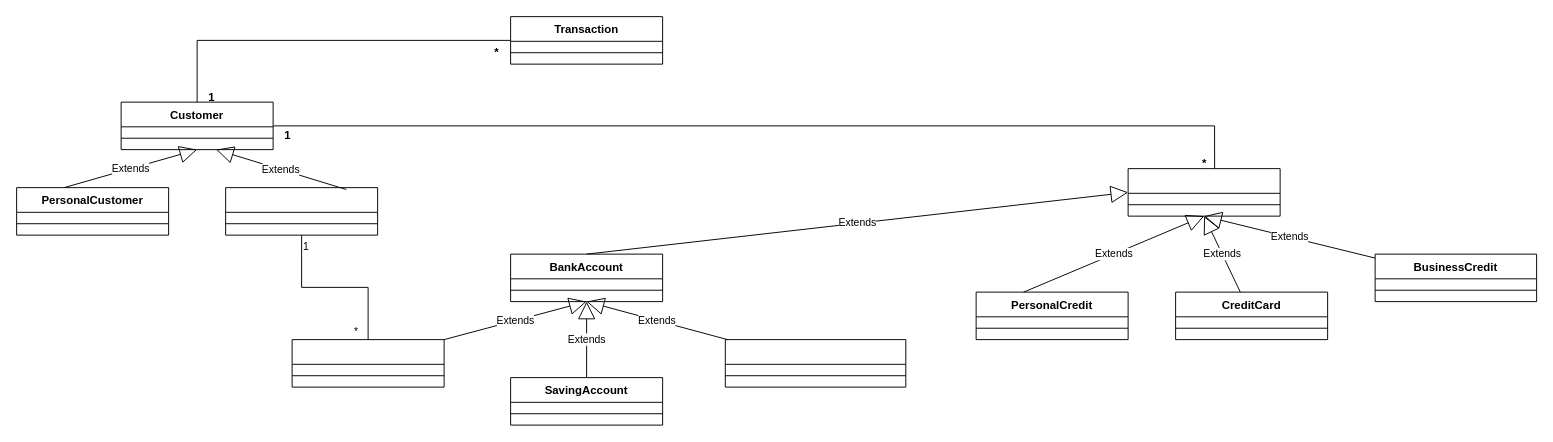
This 1553x442 diagram has some shape labels left out. Each missing label, with the box of its shape:
BusinessCustomer: (225, 187, 378, 235)
CheckingAccount: (291, 339, 444, 387)
FixedTermDepositAccount: (724, 339, 906, 387)
Product: (1127, 168, 1280, 216)
